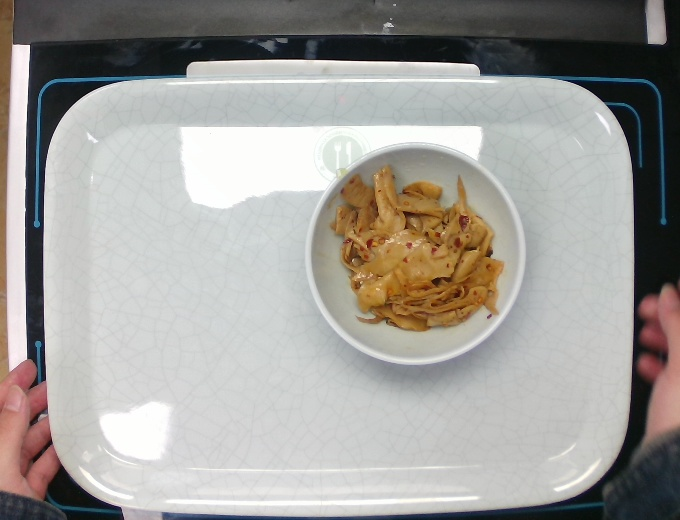JYsf-Fan_Wan: (296, 140, 532, 373)
